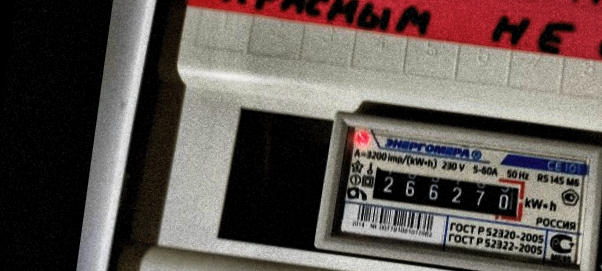0: (495, 190, 508, 211)
2: (379, 172, 396, 195), (448, 184, 463, 205)
6: (402, 177, 416, 199), (426, 181, 440, 201)
7: (471, 187, 486, 207)
screen: (357, 153, 536, 231)
